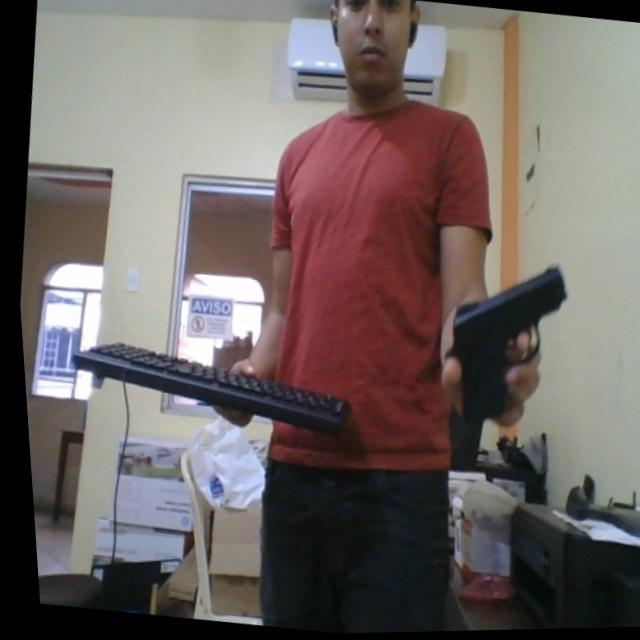weapon: (422, 250, 576, 440)
